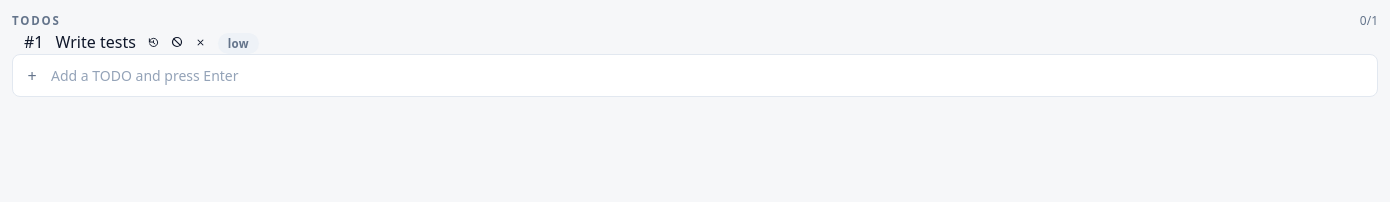
Test: TodosSection blocked tasks › Block button › typed characters do not reach global keyboard shortcuts
The width and height of the screenshot is (1390, 202).
Click the button named "Block" at (177, 42), box [171,36,183,48]
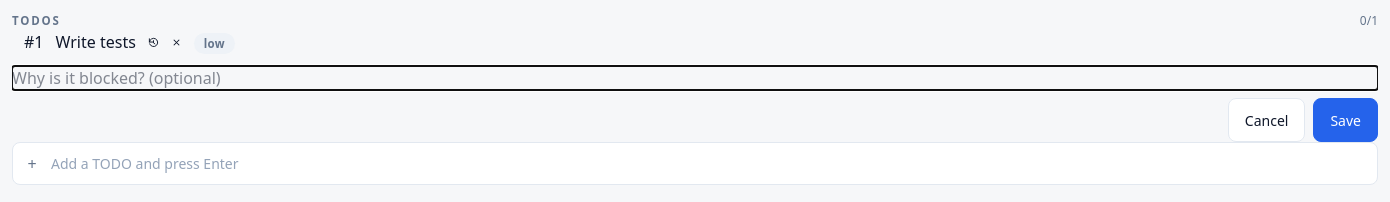
Type keys "g"
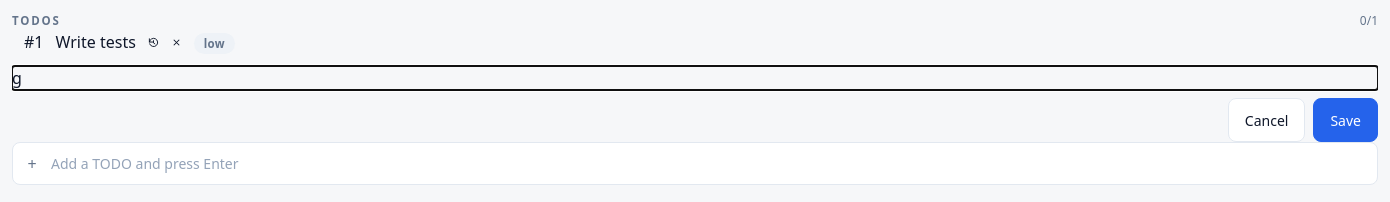
Check: the field named "Blocked reason, optional" holds "g", box [12,66,1378,90]
